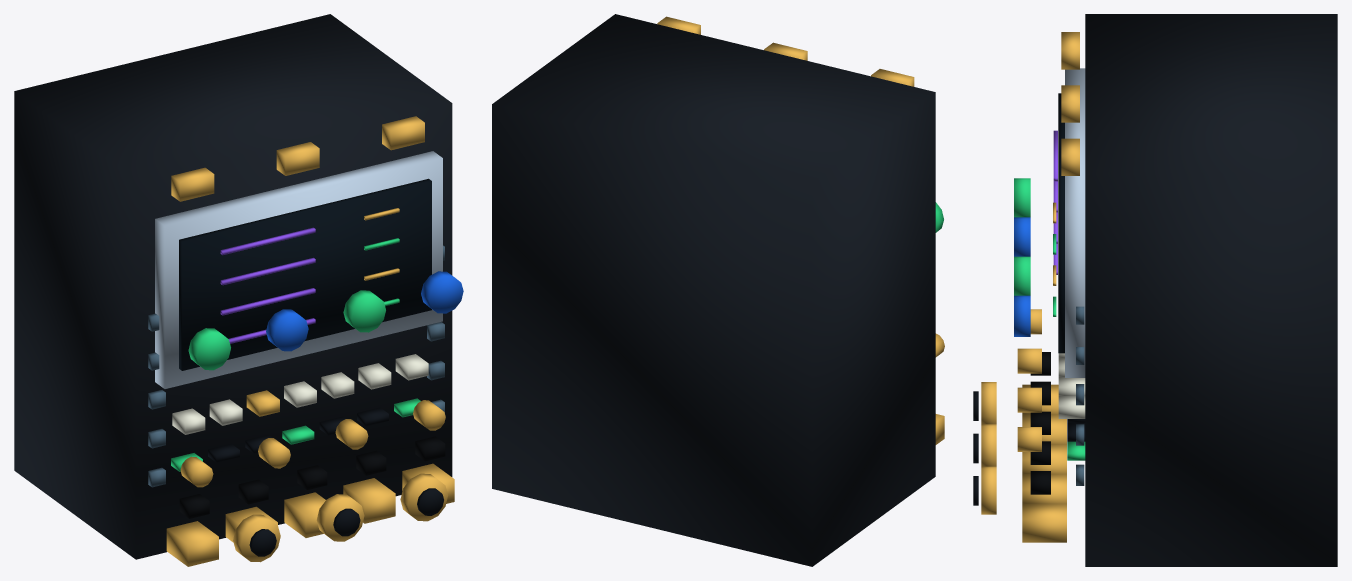
Rendered from 50_L93_OpticalSafetyInterlock.fbx.
The picture shows the model from 3 angles, left to right: view 1: azimuth 30°, elevation 25°; view 2: azimuth 150°, elevation 25°; view 3: azimuth 270°, elevation 25°; orthographic projection. The views are drawn at different scales.
Parts seen in each view (by area): view 1: L92_OpticalSafetyInterlock_Part_0000, L92_OpticalSafetyInterlock_Part_0002, L92_OpticalSafetyInterlock_Part_0001, L92_OpticalSafetyInterlock_Part_0004, L92_OpticalSafetyInterlock_Part_0006, L92_OpticalSafetyInterlock_Part_0005, L92_OpticalSafetyInterlock_Part_0009, L92_OpticalSafetyInterlock_Part_0010, L92_OpticalSafetyInterlock_Part_0003, L92_OpticalSafetyInterlock_Part_0008, L92_OpticalSafetyInterlock_Part_0007, L92_OpticalSafetyInterlock_Part_0014 (+5 smaller); view 2: L92_OpticalSafetyInterlock_Part_0000, L92_OpticalSafetyInterlock_Part_0004; view 3: L92_OpticalSafetyInterlock_Part_0000, L92_OpticalSafetyInterlock_Part_0004, L92_OpticalSafetyInterlock_Part_0001, L92_OpticalSafetyInterlock_Part_0005, L92_OpticalSafetyInterlock_Part_0009, L92_OpticalSafetyInterlock_Part_0002, L92_OpticalSafetyInterlock_Part_0010, L92_OpticalSafetyInterlock_Part_0006, L92_OpticalSafetyInterlock_Part_0008, L92_OpticalSafetyInterlock_Part_0018, L92_OpticalSafetyInterlock_Part_0014, L92_OpticalSafetyInterlock_Part_0016 (+1 smaller).
Boxes of the visible parts, left/top/right/bottom form: L92_OpticalSafetyInterlock_Part_0000: left=14, top=14, right=452, bottom=559; L92_OpticalSafetyInterlock_Part_0002: left=179, top=178, right=431, bottom=370; L92_OpticalSafetyInterlock_Part_0001: left=155, top=151, right=442, bottom=388; L92_OpticalSafetyInterlock_Part_0004: left=166, top=116, right=454, bottom=566; L92_OpticalSafetyInterlock_Part_0006: left=172, top=354, right=428, bottom=434; L92_OpticalSafetyInterlock_Part_0005: left=171, top=238, right=420, bottom=471; L92_OpticalSafetyInterlock_Part_0009: left=179, top=436, right=445, bottom=518; L92_OpticalSafetyInterlock_Part_0010: left=266, top=271, right=463, bottom=351; L92_OpticalSafetyInterlock_Part_0003: left=220, top=227, right=315, bottom=343; L92_OpticalSafetyInterlock_Part_0008: left=148, top=245, right=444, bottom=487; L92_OpticalSafetyInterlock_Part_0007: left=208, top=407, right=388, bottom=462; L92_OpticalSafetyInterlock_Part_0014: left=233, top=514, right=280, bottom=562; L92_OpticalSafetyInterlock_Part_0000: left=492, top=14, right=935, bottom=566; L92_OpticalSafetyInterlock_Part_0004: left=657, top=16, right=944, bottom=444; L92_OpticalSafetyInterlock_Part_0000: left=1085, top=14, right=1337, bottom=566; L92_OpticalSafetyInterlock_Part_0004: left=1017, top=32, right=1079, bottom=542; L92_OpticalSafetyInterlock_Part_0001: left=1065, top=68, right=1085, bottom=377; L92_OpticalSafetyInterlock_Part_0005: left=1014, top=178, right=1085, bottom=460; L92_OpticalSafetyInterlock_Part_0009: left=1030, top=352, right=1050, bottom=494; L92_OpticalSafetyInterlock_Part_0002: left=1058, top=93, right=1064, bottom=353; L92_OpticalSafetyInterlock_Part_0010: left=1014, top=217, right=1030, bottom=336; L92_OpticalSafetyInterlock_Part_0006: left=1058, top=353, right=1085, bottom=418; L92_OpticalSafetyInterlock_Part_0008: left=1076, top=306, right=1084, bottom=485; L92_OpticalSafetyInterlock_Part_0018: left=981, top=466, right=996, bottom=514; L92_OpticalSafetyInterlock_Part_0014: left=981, top=382, right=996, bottom=424; L92_OpticalSafetyInterlock_Part_0016: left=981, top=424, right=996, bottom=466.
Bounding box in the file's own units: 102 × 117 × 98.2.
